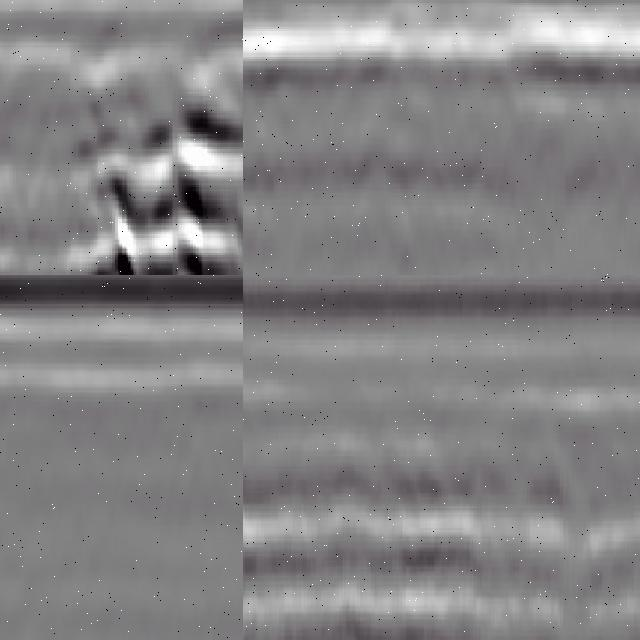loose: (58, 65, 244, 276)
